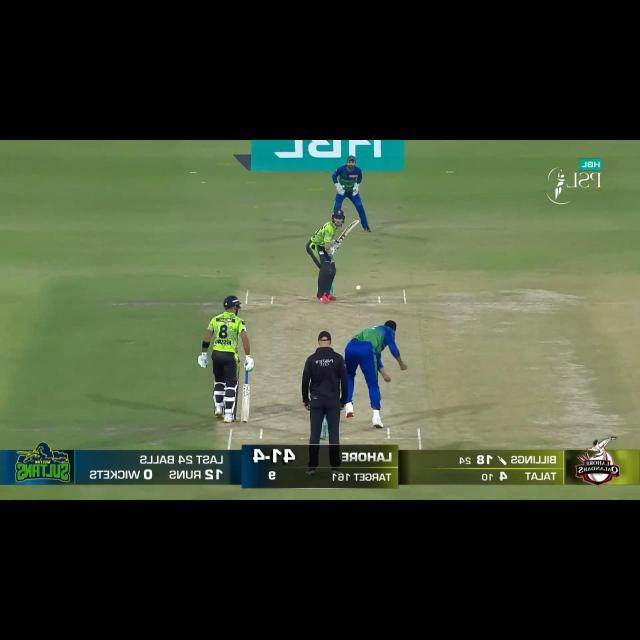bat: (337, 218, 359, 244), (239, 380, 251, 426)
toe: (348, 218, 358, 230), (240, 414, 249, 424)
